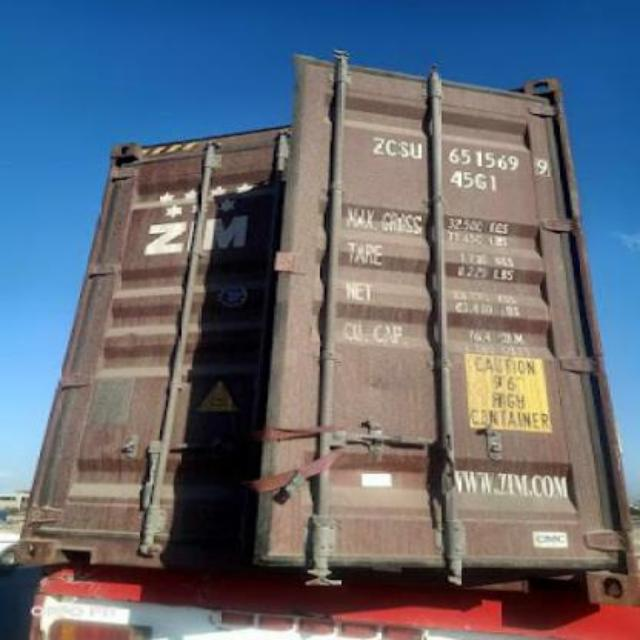1: (474, 148, 484, 168)
5: (460, 146, 472, 166), (484, 150, 496, 170)
6: (448, 146, 462, 166), (496, 152, 508, 172)
9: (532, 157, 552, 179), (506, 154, 520, 172)
C: (386, 138, 398, 160)
S: (398, 140, 410, 160)
U: (411, 142, 424, 162)
Z: (372, 136, 386, 158)
